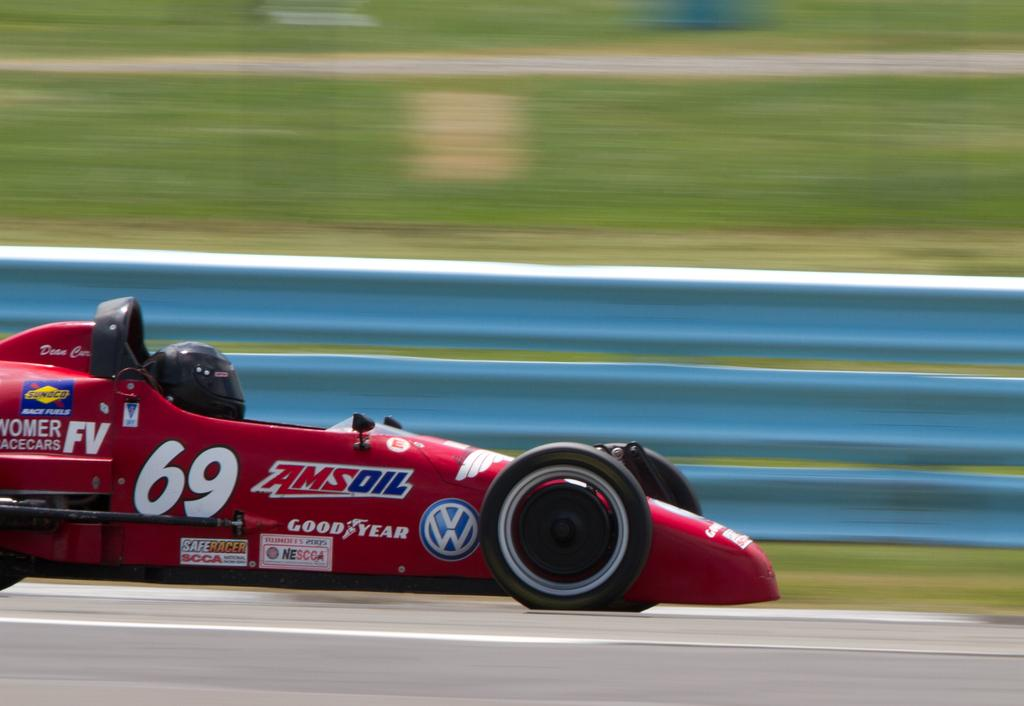helmet: (149, 341, 246, 422)
